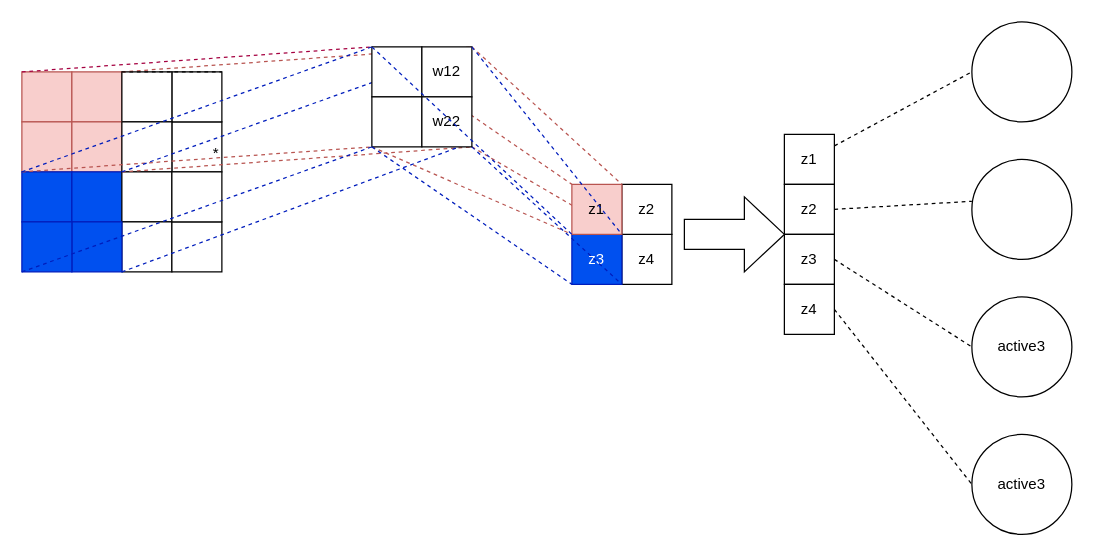
Image size: 1094x556. Some labels were removed from this diagram. Each missing label, with the box of its shape:
active1: (971, 21, 1072, 122)
active2: (971, 158, 1072, 259)
Flatten: (683, 196, 784, 272)
w11: (371, 46, 422, 97)
w21: (371, 96, 422, 147)
